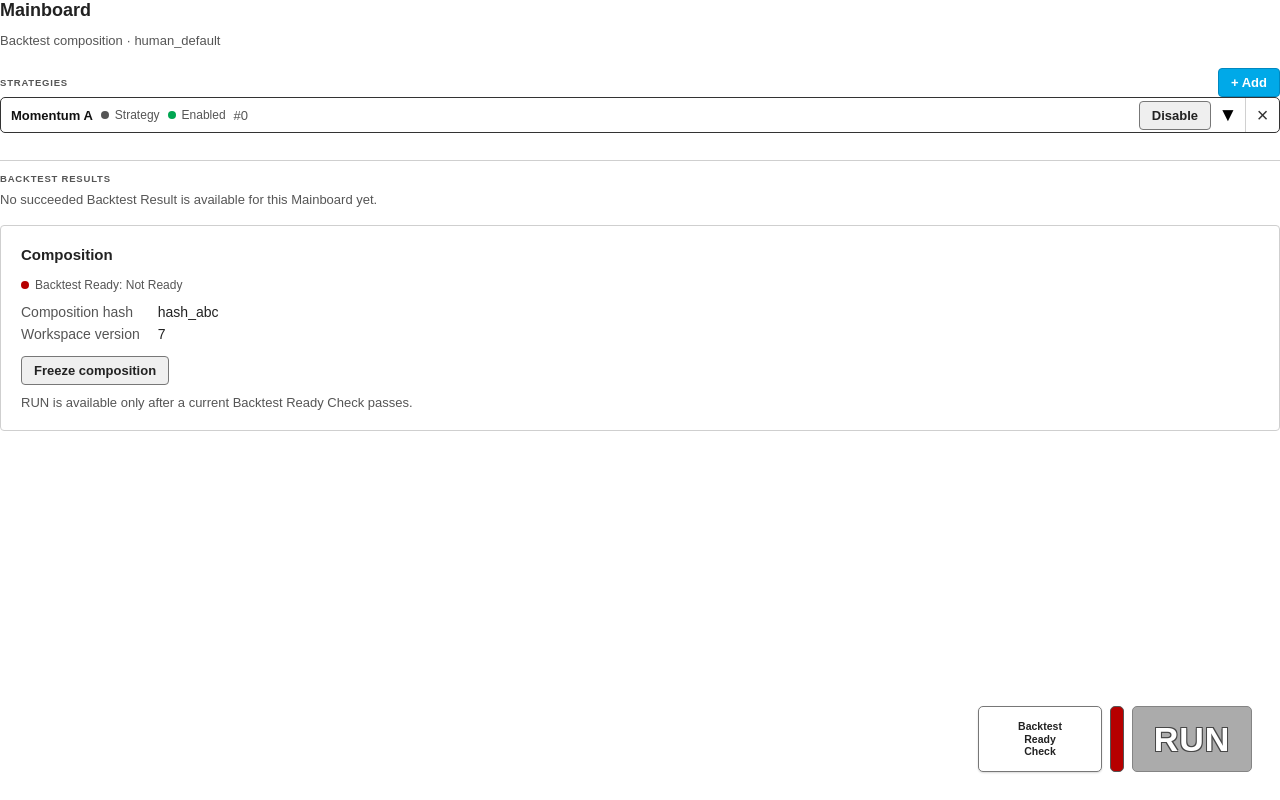
Test case: UI-14 Ready Check shell + modal › closes the modal on Close
Expected: the text "Momentum A" is shown, x1=11 y1=108 x2=93 y2=122
Click the button with aria-label "Backtest Ready Check". click: (1040, 739)
box: x1=978 y1=706 x2=1102 y2=772
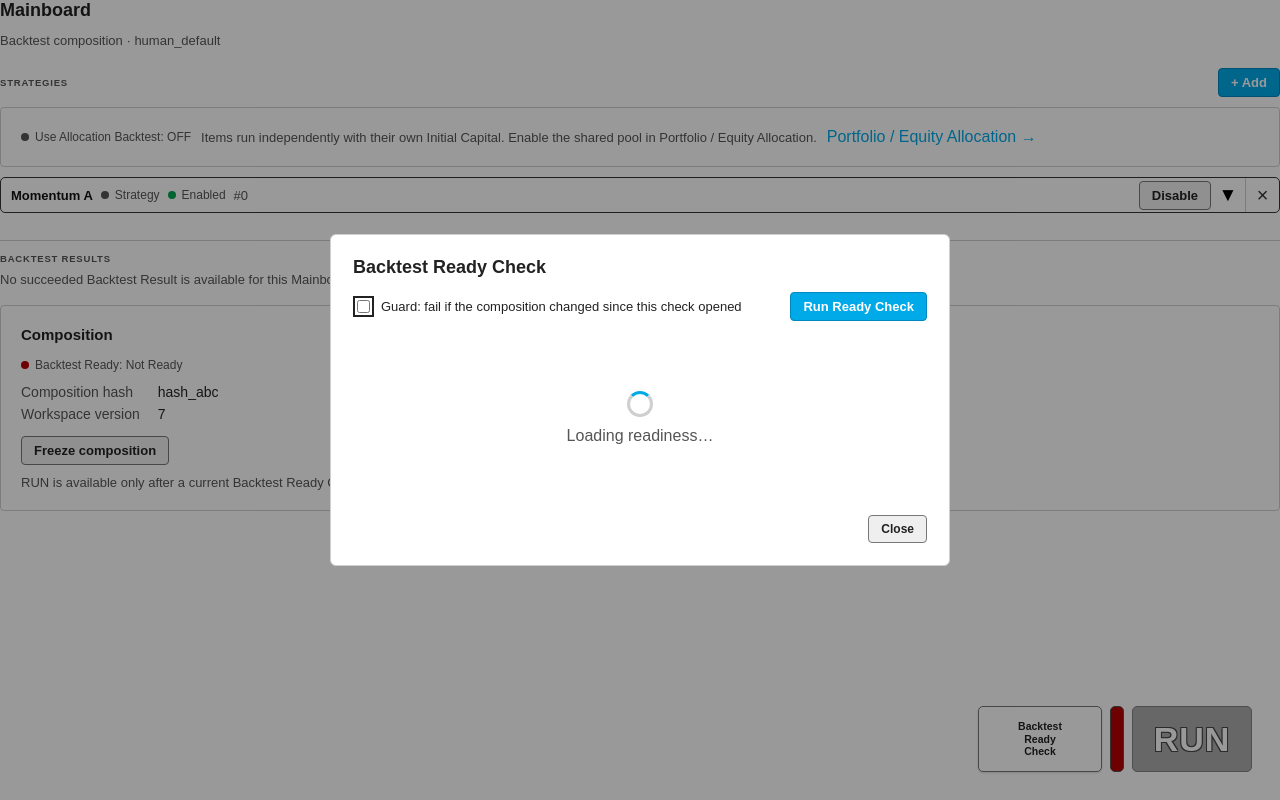
Click the button "Close". click: (898, 529)
box: x1=868 y1=515 x2=927 y2=543
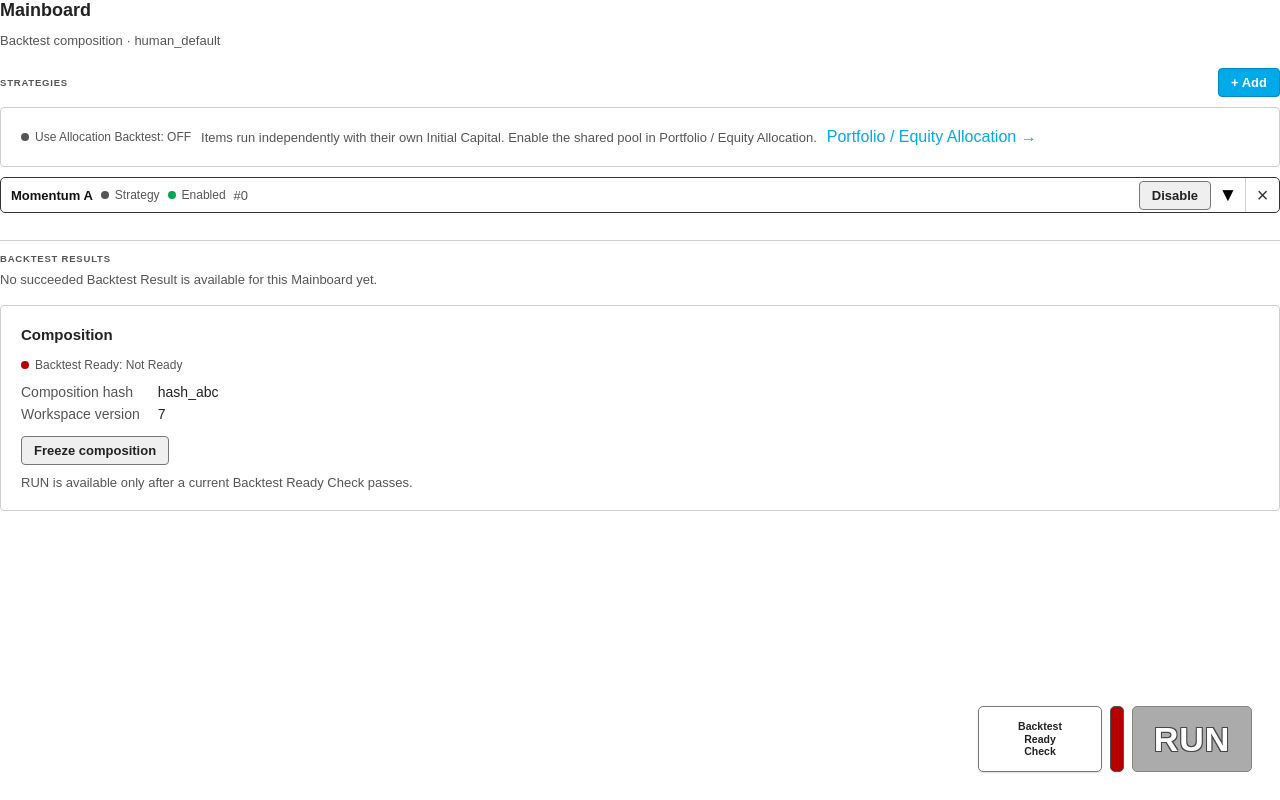
Result: the dialog is gone
